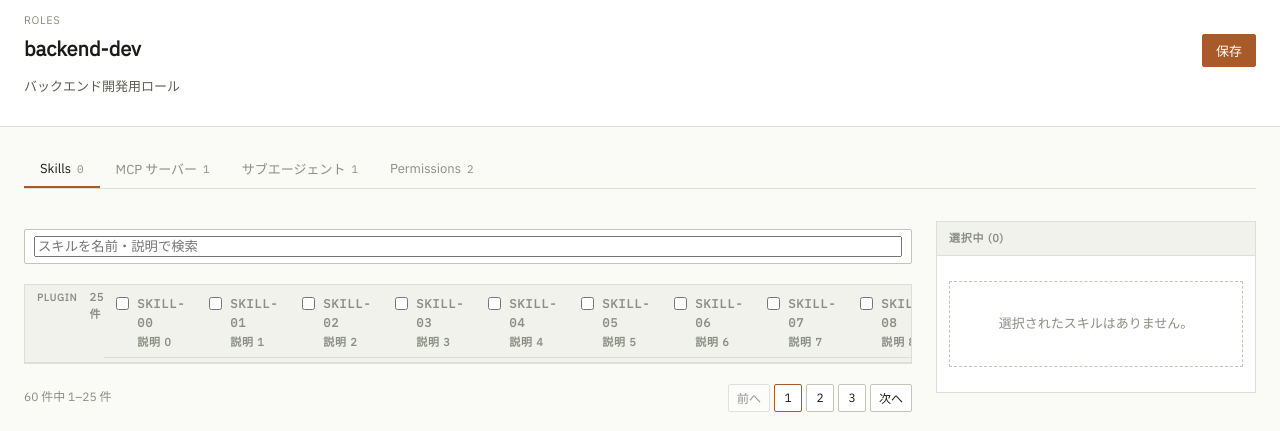
Test: RoleEditor › paginates a long skill candidate list
This screenshot has width=1280, height=431.
Check: the text "skill-00" is shown, box top-left (137, 295), bottom-right (185, 332)
Check: the text "60 件中 1–25 件" is shown, box top-left (24, 388), bottom-right (112, 407)
Click the button "次へ" at [891, 398], box top-left (870, 384), bottom-right (912, 412)
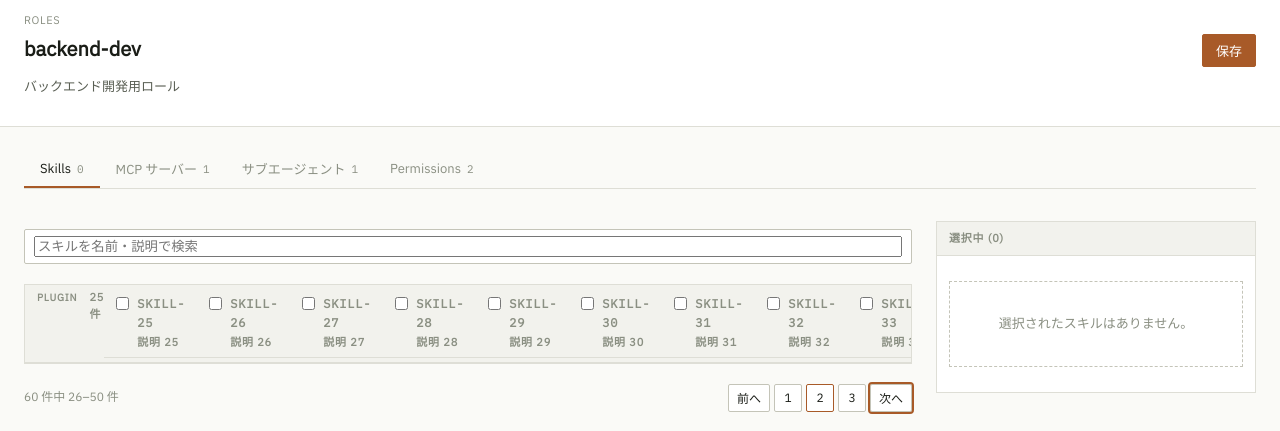
Check: the text "skill-25" is shown, box top-left (137, 295), bottom-right (185, 332)
Check: the text "skill-00" is gone
